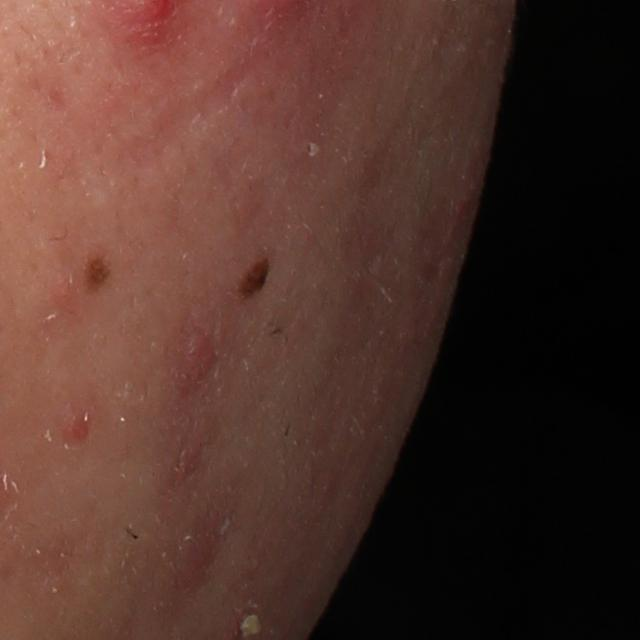nevus: (236, 251, 273, 305), (79, 252, 116, 291)
papule: (44, 403, 110, 457), (179, 333, 224, 386)
